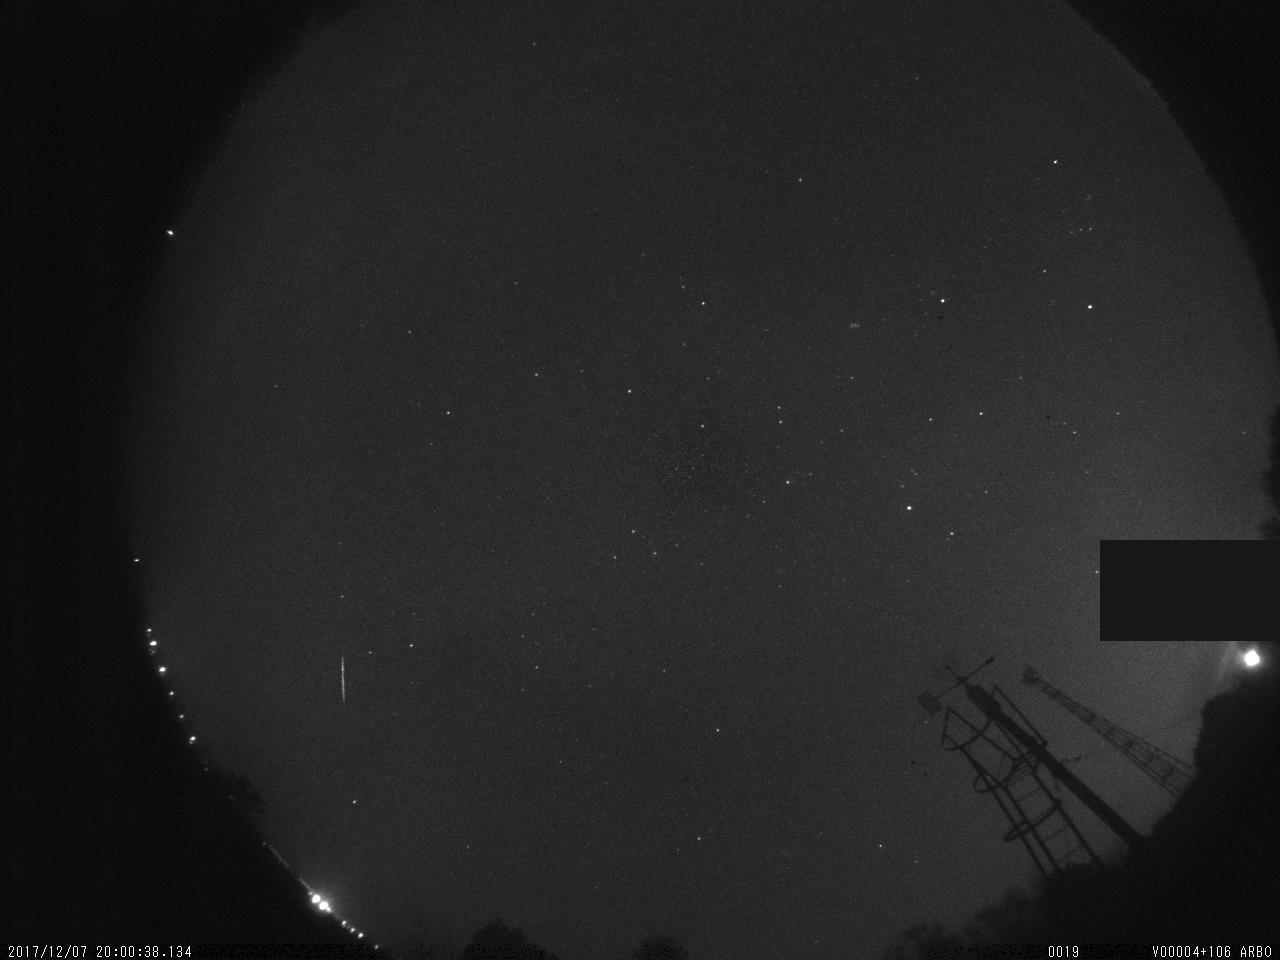meteor: (301, 644, 378, 723)
